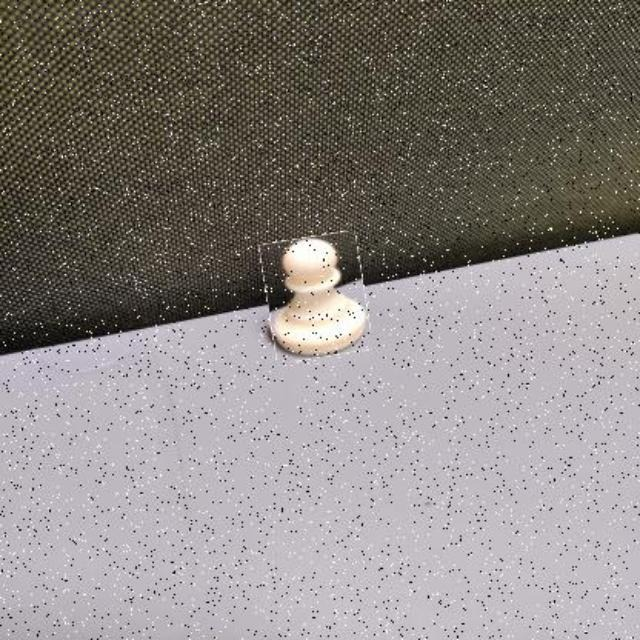white-pawn: (264, 234, 368, 360)
